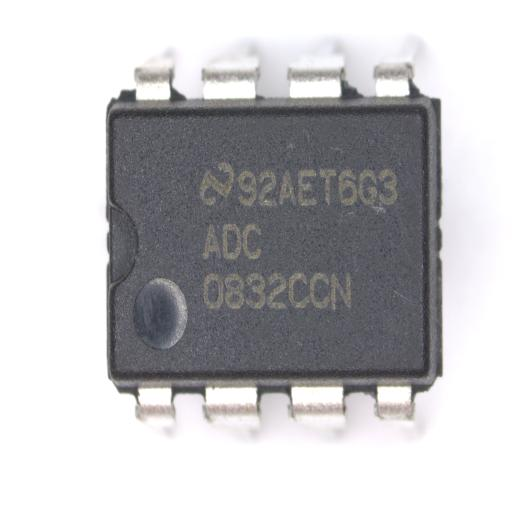pins: (285, 375, 353, 449), (199, 374, 267, 447), (198, 38, 268, 102), (281, 38, 351, 102), (369, 34, 427, 102), (368, 372, 426, 440), (126, 39, 184, 104), (127, 381, 183, 446)
